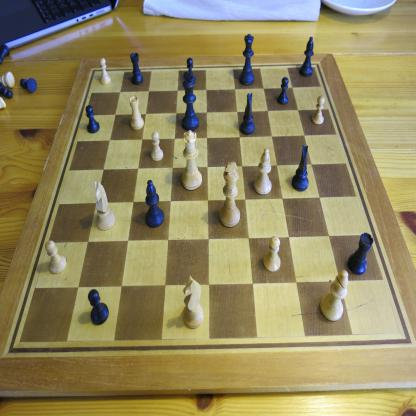black-bishop: (144, 180, 165, 228), (299, 36, 314, 77)
black-king: (181, 70, 200, 131)
black-knight: (291, 144, 309, 192), (240, 92, 255, 136)
black-pawn: (87, 289, 109, 326), (85, 104, 100, 134), (277, 76, 289, 106), (186, 57, 196, 84), (0, 82, 14, 100)
black-queen: (239, 33, 255, 86)
black-rook: (348, 232, 374, 276), (130, 52, 144, 86)
white-bishop: (319, 269, 349, 322), (254, 147, 272, 196)
white-king: (218, 162, 240, 228)
white-knight: (182, 275, 204, 330), (94, 181, 116, 231)
white-pawn: (45, 240, 67, 275), (263, 235, 281, 273), (150, 131, 164, 162), (311, 95, 325, 125), (99, 57, 111, 85)
white-queen: (181, 129, 203, 191)
white-rook: (129, 94, 144, 131)
